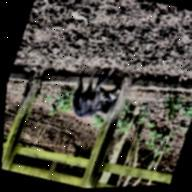boar: (67, 60, 128, 127)
